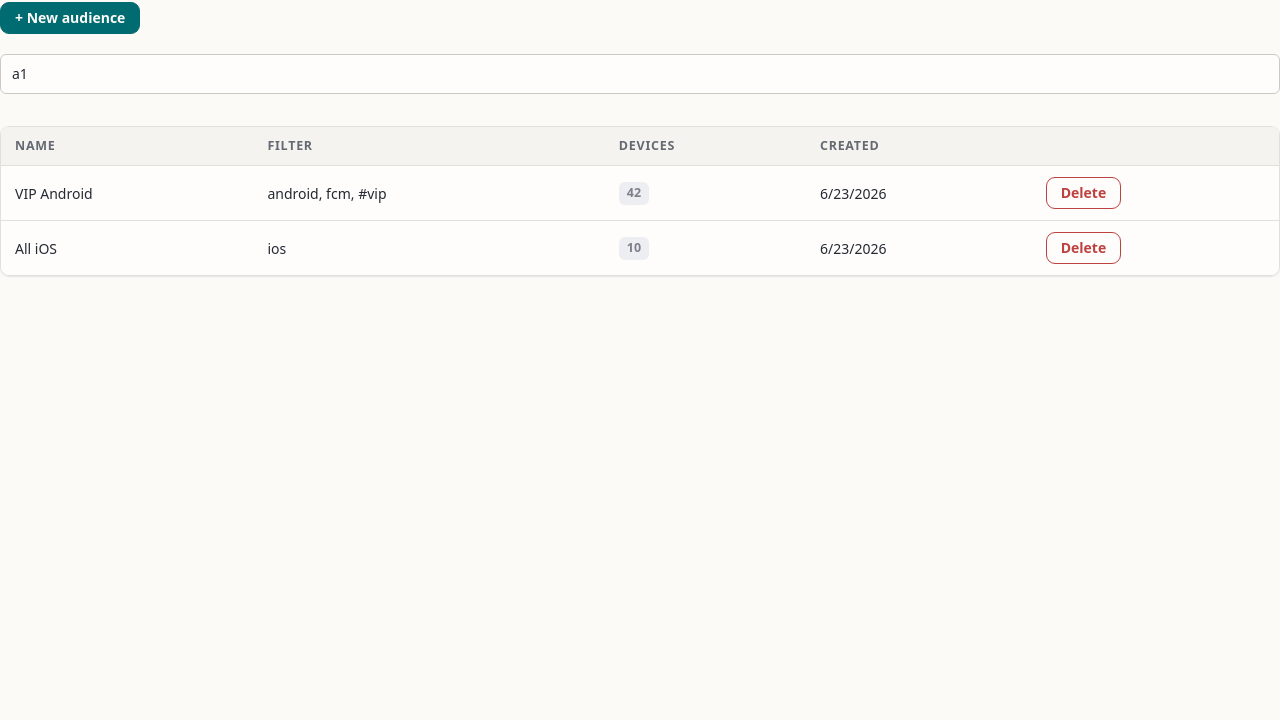
Scenario: audiences page › reveals the create form when "+ New audience" is clicked
Click the button with test id "new-audience-btn": click(70, 18) [0, 2, 140, 34]
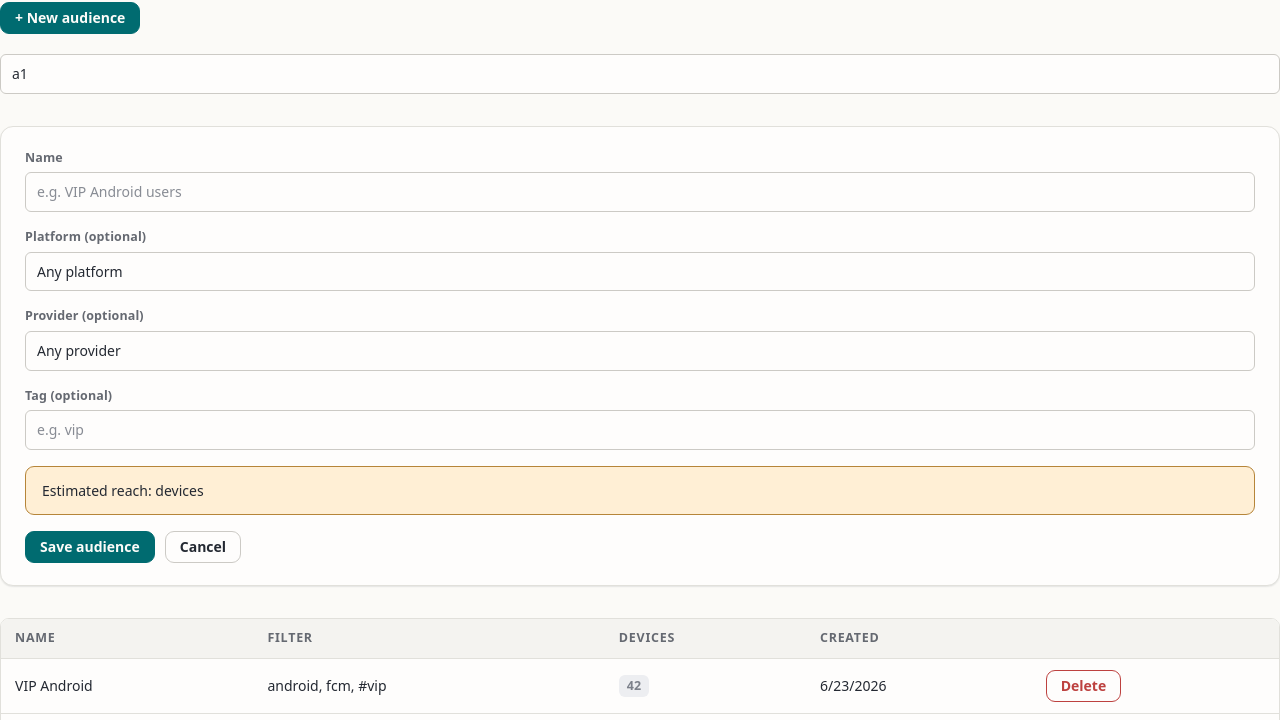
Now the field with test id "audience-name" is shown, box [25, 172, 1255, 212]
Now the dropdown with test id "platform-select" is shown, box [25, 252, 1255, 291]
Now the dropdown with test id "provider-select" is shown, box [25, 331, 1255, 370]
